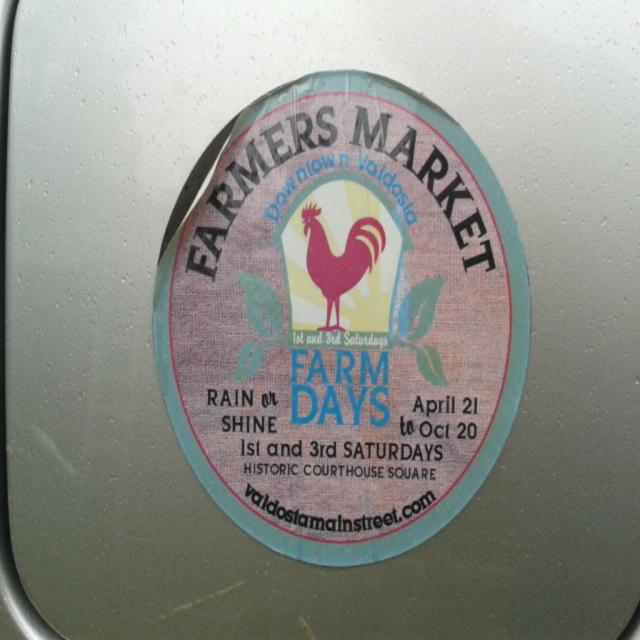Chicken: (305, 199, 382, 329)
